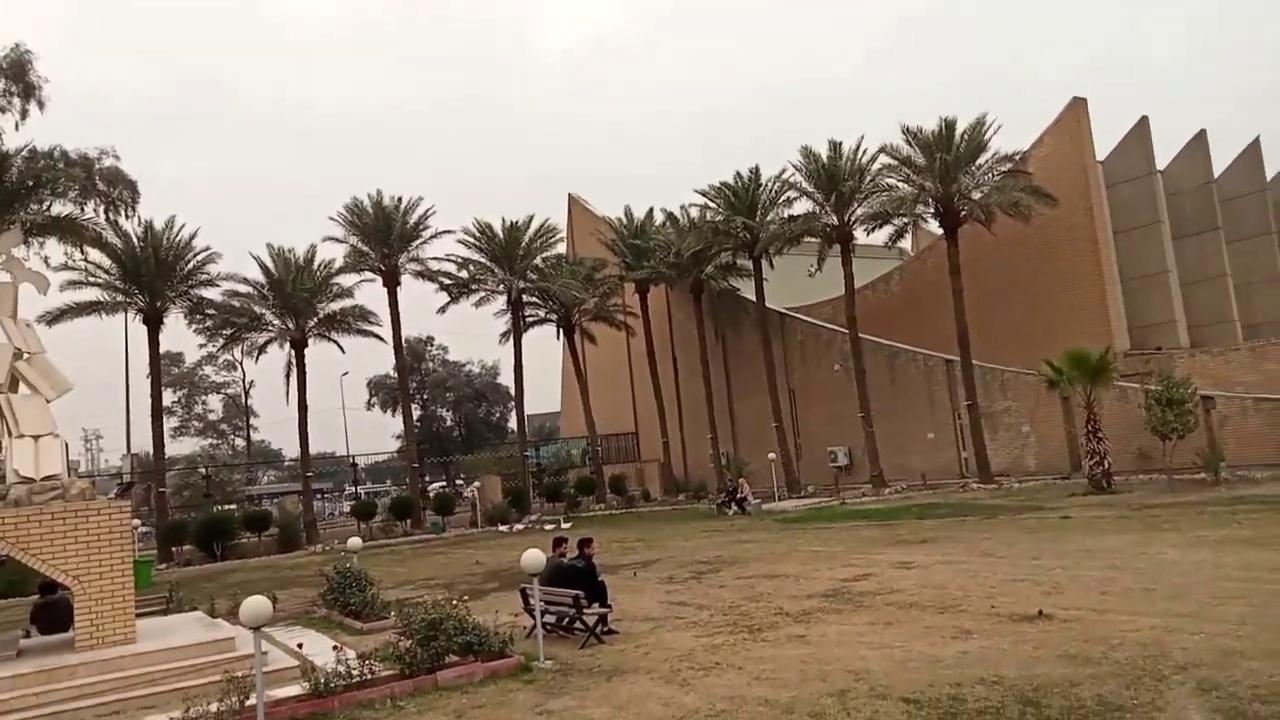person: (566, 536, 619, 635), (536, 535, 577, 636), (28, 577, 73, 636), (729, 476, 753, 515), (720, 477, 737, 515)
tree: (865, 111, 1059, 483), (34, 211, 223, 563), (0, 40, 141, 502), (208, 241, 386, 547), (320, 187, 454, 530), (780, 133, 902, 490), (690, 163, 814, 499), (435, 212, 568, 517), (499, 252, 639, 507), (0, 41, 140, 258), (654, 203, 752, 495), (592, 203, 683, 499), (187, 294, 269, 484), (365, 332, 453, 508), (416, 355, 515, 499), (1037, 342, 1120, 491), (314, 533, 396, 633), (1137, 368, 1200, 466), (191, 508, 240, 562), (155, 514, 191, 565), (240, 506, 272, 551), (348, 497, 378, 538), (79, 425, 104, 474), (387, 493, 417, 533), (430, 488, 456, 531), (572, 473, 597, 509), (483, 498, 512, 527), (606, 470, 629, 506), (540, 478, 565, 510)
